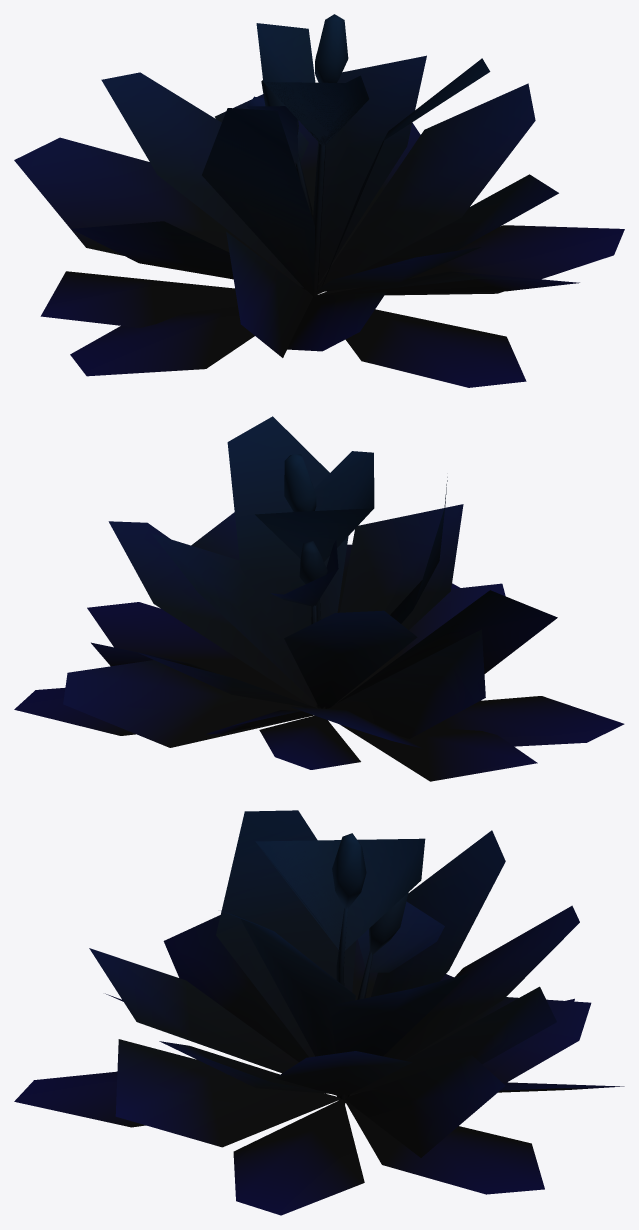
The model's file is TSI_Plant_10B.fbx.
3 views of the same model, one above another, from view 1: azimuth 30°, elevation 25°; view 2: azimuth 150°, elevation 25°; view 3: azimuth 270°, elevation 25° (orthographic). The views are drawn at different scales.
Visible parts, largest first — view 1: TSI_Plant_10B_LOD0; view 2: TSI_Plant_10B_LOD0; view 3: TSI_Plant_10B_LOD0.
Part boxes in pixels (left/top/right/bottom): TSI_Plant_10B_LOD0: left=14, top=14, right=624, bottom=387; TSI_Plant_10B_LOD0: left=14, top=416, right=624, bottom=781; TSI_Plant_10B_LOD0: left=14, top=810, right=624, bottom=1215.
Size of the model in its own units: 95.37 by 45.58 by 89.72.
